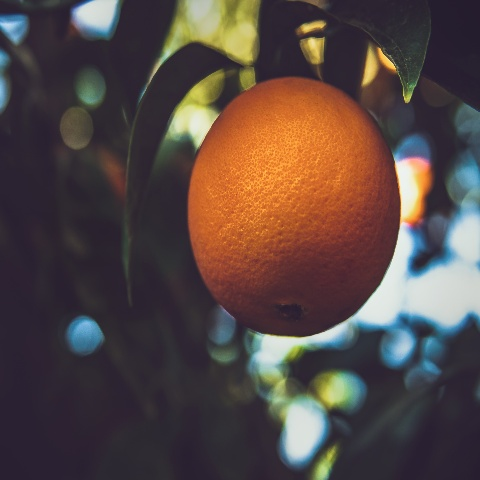orange: (166, 72, 444, 346)
